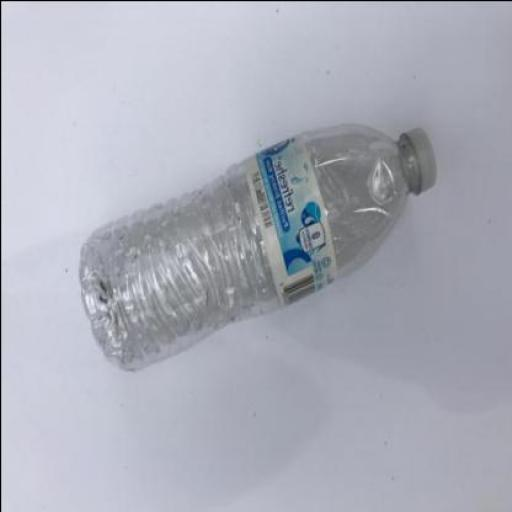plastic: (77, 125, 435, 372), (238, 132, 336, 306), (398, 128, 435, 194)
